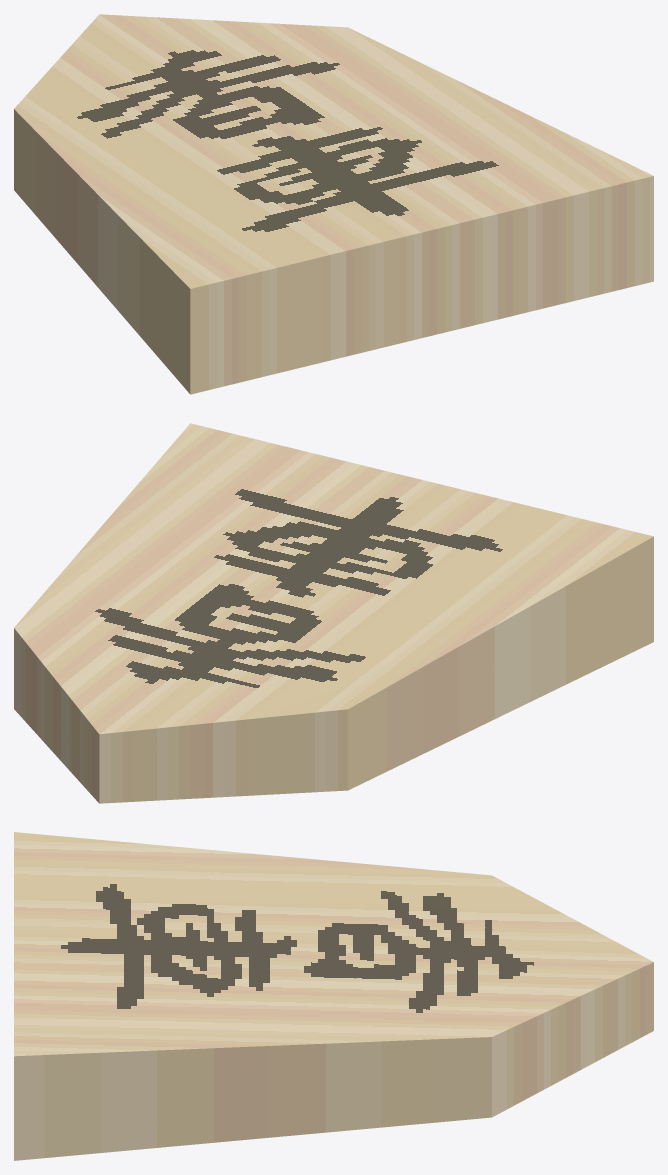
File: 01bc_Kyousha.glb
3 renders of one model, top to bottom at view 1: azimuth 30°, elevation 25°; view 2: azimuth 150°, elevation 25°; view 3: azimuth 270°, elevation 25°, orthographic.
Parts seen in each view (by area): view 1: part_0; view 2: part_0; view 3: part_0.
Boxes of the visible parts, <box> form: part_0: <box>14,14,653,394</box>; part_0: <box>14,423,653,803</box>; part_0: <box>14,832,653,1160</box>.
Bounding box in the file's own units: 0.0227 × 0.00495 × 0.0274.
1 material, 1 textured.
